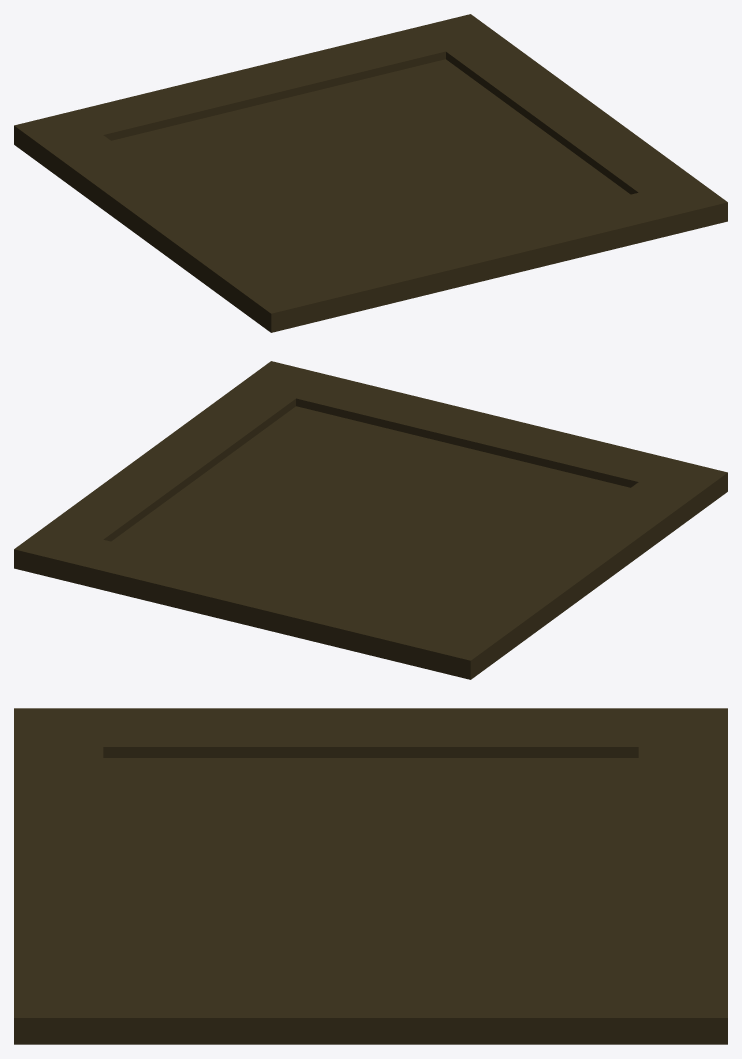
Rendered from BrickWall-Sandstone-Roof-TopOnly.fbx.
The picture shows the model from 3 angles, top to bottom: view 1: azimuth 30°, elevation 25°; view 2: azimuth 150°, elevation 25°; view 3: azimuth 270°, elevation 25°; orthographic projection. The views are drawn at different scales.
Parts seen in each view (by area): view 1: Cube.012; view 2: Cube.012; view 3: Cube.012.
Boxes of the visible parts, x1,y1,x2,y2 form: Cube.012: (14,14,727,332); Cube.012: (14,361,727,679); Cube.012: (14,708,727,1044).
Bounding box in the file's own units: 910 × 36.57 × 888.
